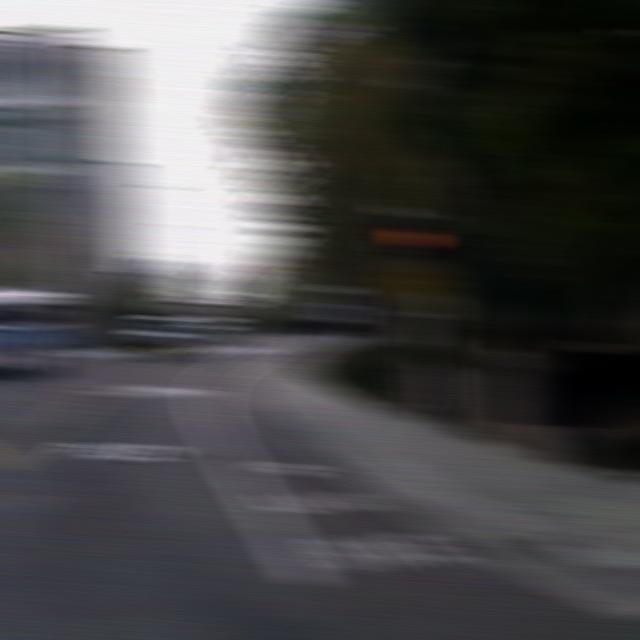pedestrianCrossing: (384, 254, 442, 309)
